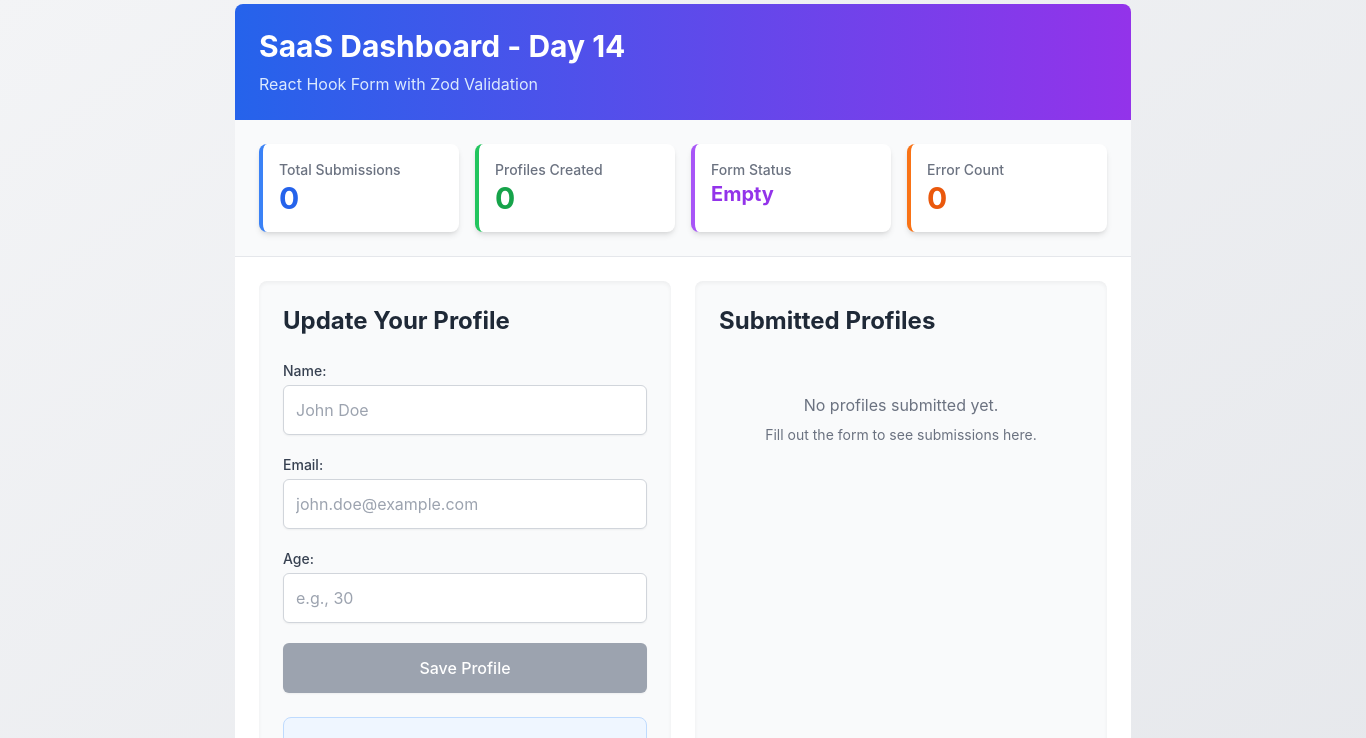
Test: SaaS Dashboard - Day 14 › live preview updates as user types
The width and height of the screenshot is (1366, 738).
Type "Test User" into the field labelled "Name:".
click(465, 410); type("Test User")  # box top-left (283, 385), bottom-right (647, 435)
(page scrolled)
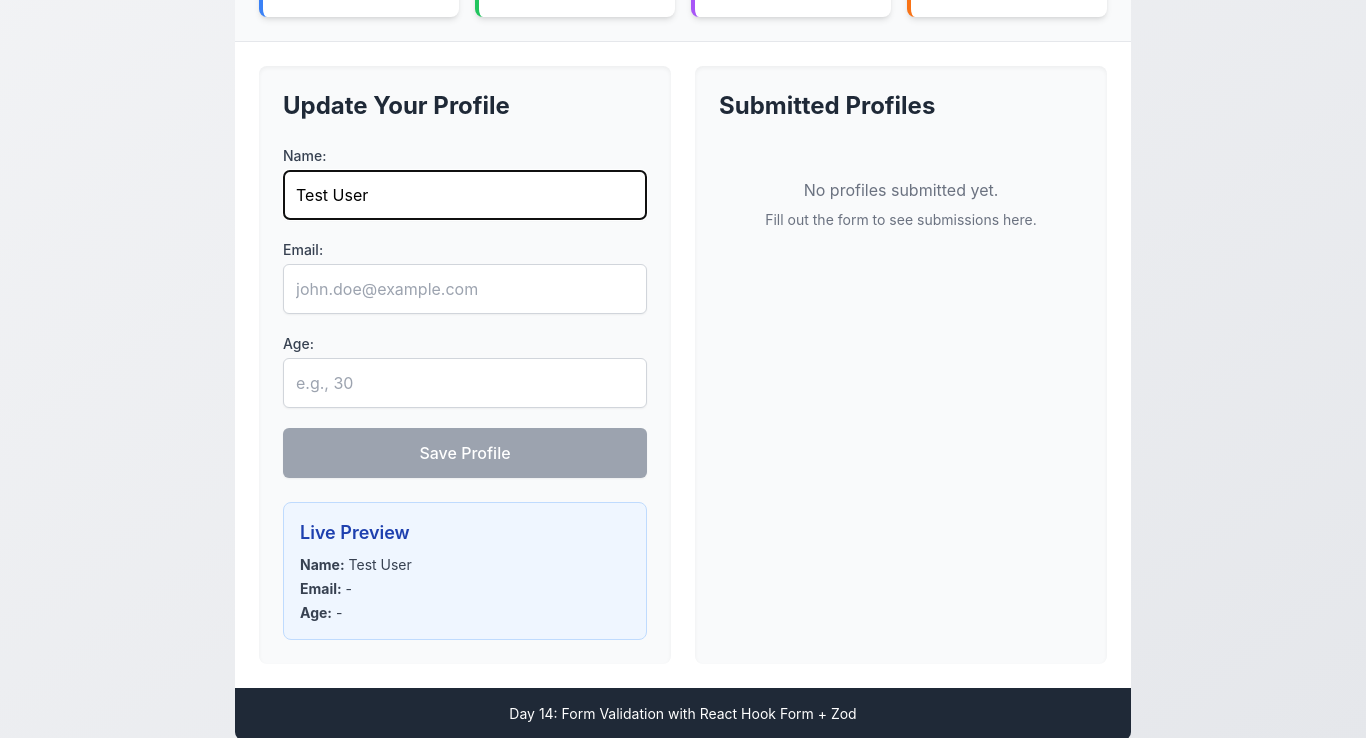
Now the text "Name: Test User" is shown, box top-left (300, 556), bottom-right (412, 573)
